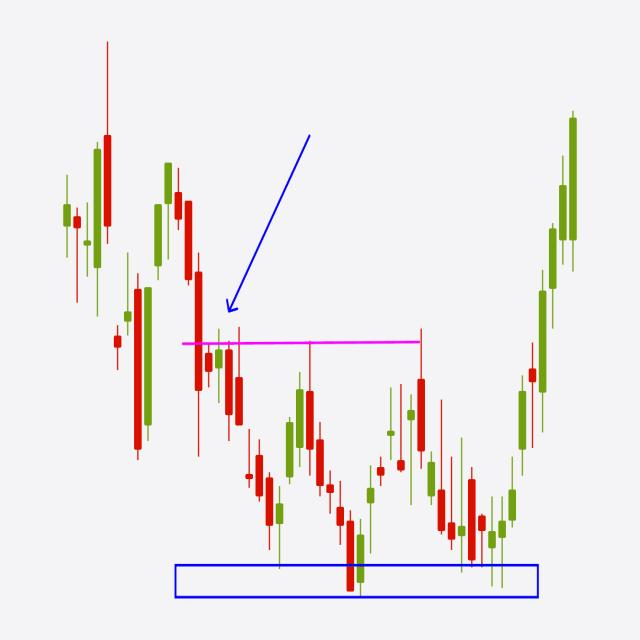Triple-Bottom: (202, 350, 536, 563)
